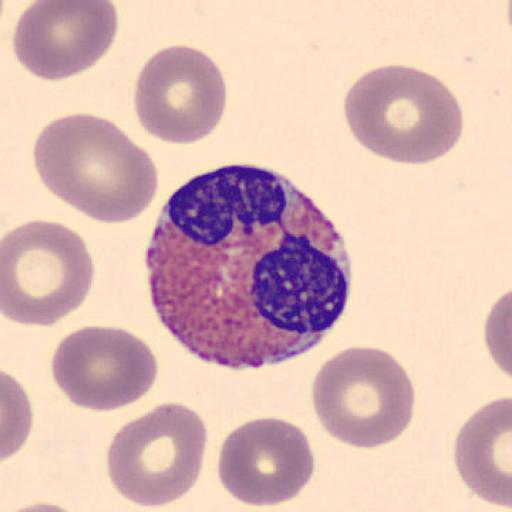RBC: (32, 112, 160, 226), (343, 63, 465, 167), (310, 344, 417, 450), (105, 400, 208, 508), (2, 219, 96, 328), (132, 43, 228, 146), (50, 324, 159, 412), (216, 414, 316, 508), (10, 0, 118, 82), (452, 395, 512, 511), (2, 368, 34, 464), (483, 284, 512, 384), (0, 500, 94, 512), (505, 0, 512, 54)
WBC: (143, 164, 352, 370)
